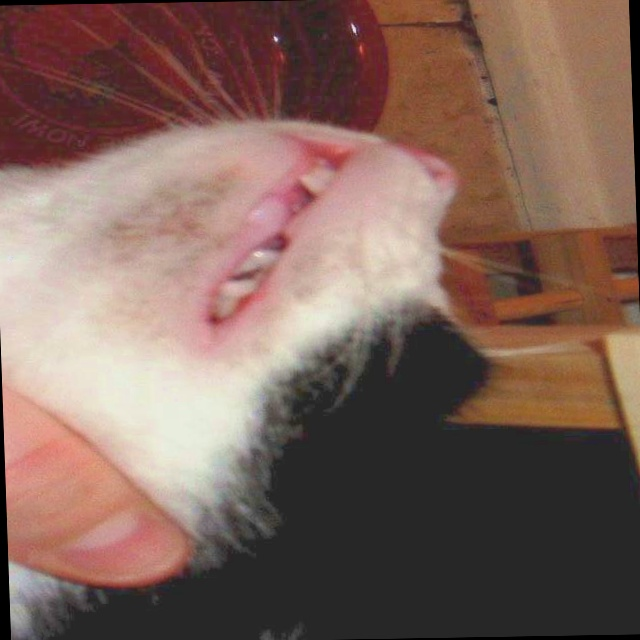acne: (97, 161, 254, 289)
